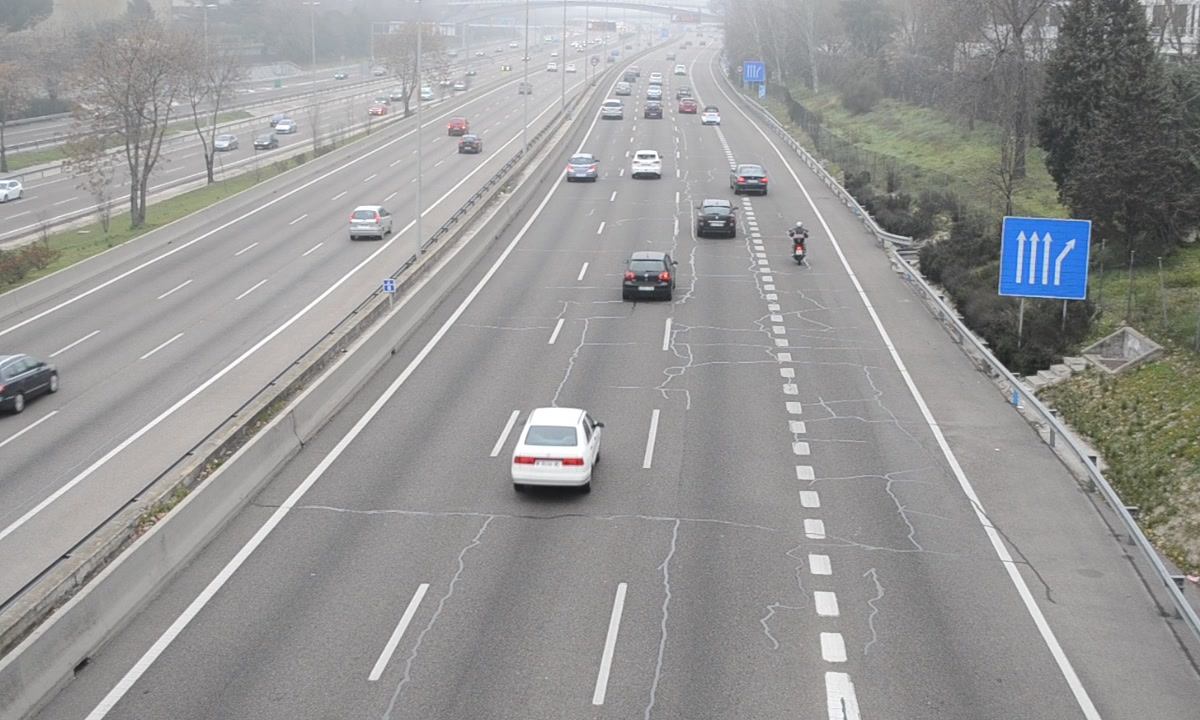car: (512, 407, 604, 489), (625, 254, 676, 302), (695, 200, 737, 236), (732, 164, 769, 198), (566, 154, 598, 183), (631, 151, 664, 179), (600, 95, 623, 119)
motorcycle: (789, 221, 810, 269)
